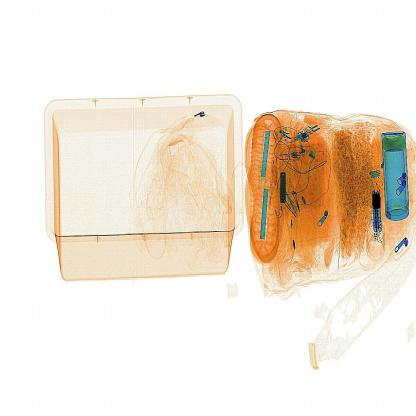scissors: (370, 182, 387, 237)
